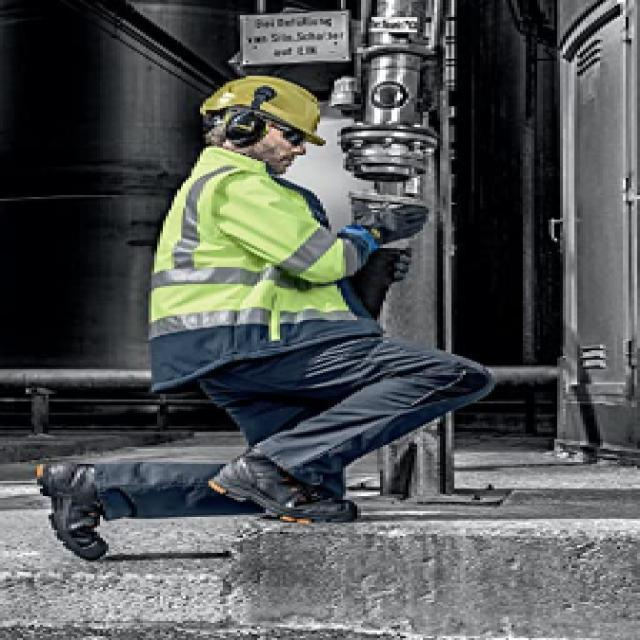boots: (17, 446, 369, 564)
helmet: (189, 68, 335, 173)
vest: (138, 139, 392, 391)
